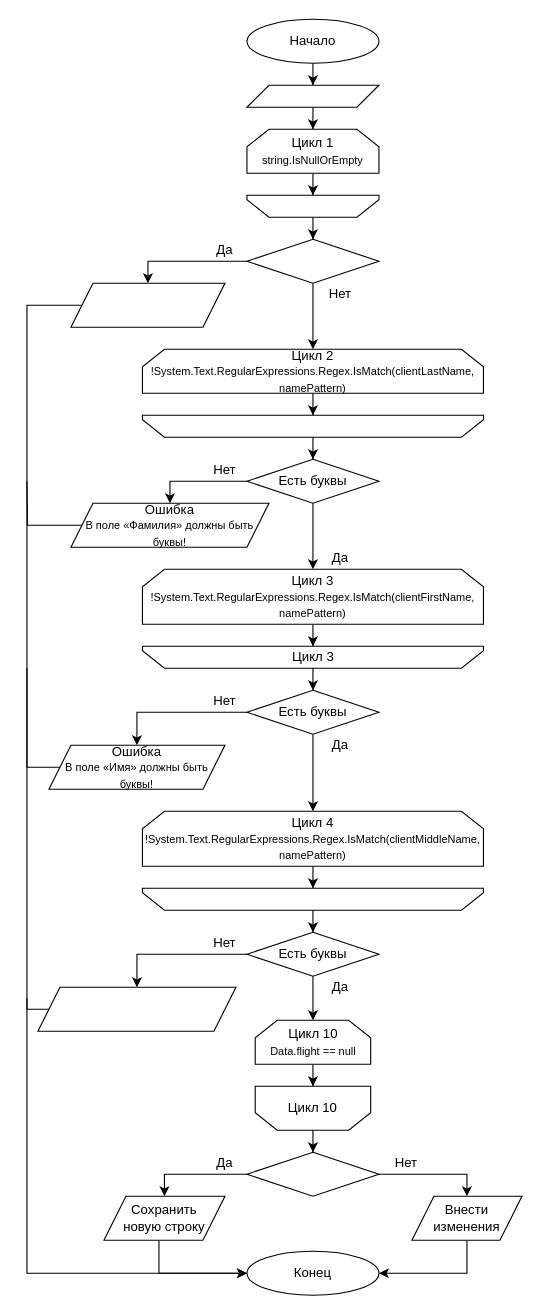
Image size: 541x1315. Some labels were removed from this diagram. Here are the shapes that lost their labels. From the top down, the box of each, then its label:
(246, 84, 379, 107): Ввод значений
(246, 194, 379, 217): Цикл 1
(246, 238, 379, 283): Поле пустое
(70, 282, 225, 327): Ошибка Пожалуйста, заполни все поля!
(141, 414, 483, 437): Цикл 2
(141, 887, 483, 910): Цикл 4
(37, 986, 236, 1031): Ошибка В поле «Отчество» должны быть буквы!
(246, 1151, 379, 1196): Значение новое
